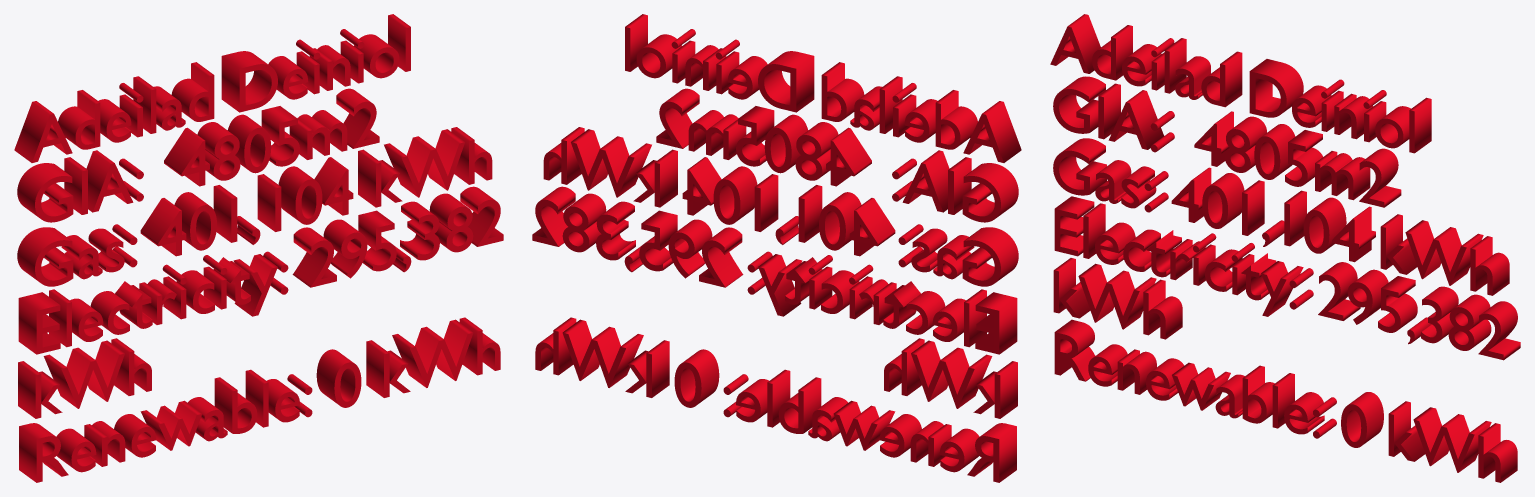
The model's file is Adeilad Deioniol.gltf.
3 views of the same model, side by side, from view 1: azimuth 30°, elevation 25°; view 2: azimuth 150°, elevation 25°; view 3: azimuth 330°, elevation 25° (orthographic). The views are drawn at different scales.
Parts seen in each view (by area): view 1: Text; view 2: Text; view 3: Text.
Part boxes in pixels (x1,y1,x2,y2): Text: (14,14,503,482); Text: (532,14,1021,482); Text: (1050,14,1520,482).
Bounding box in the file's own units: 7.69 × 5.69 × 0.5.
